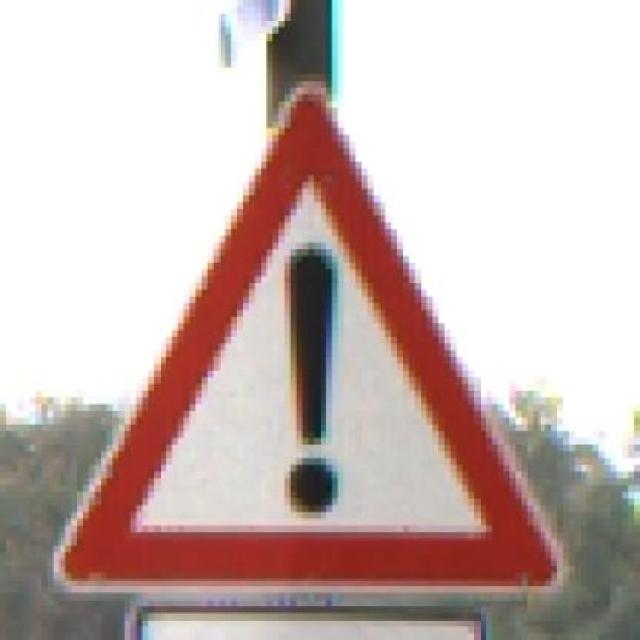Attention Please-: (47, 81, 575, 599)
